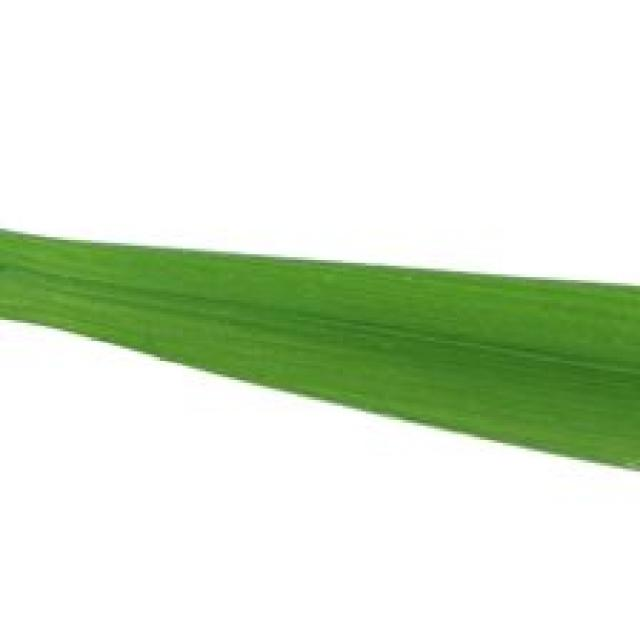Rice___Healthy_Rice_Plant: (1, 227, 637, 475)
